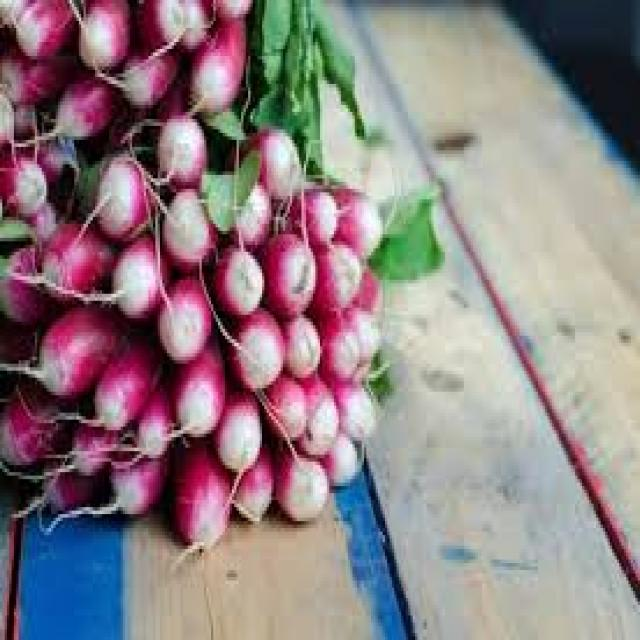organic waste: (295, 14, 357, 171), (32, 301, 126, 398), (246, 0, 313, 126), (86, 329, 169, 423), (167, 430, 232, 549), (0, 371, 77, 468), (37, 213, 114, 308), (374, 182, 441, 276), (153, 262, 213, 357), (28, 454, 114, 518), (223, 301, 285, 388), (88, 150, 149, 238), (98, 444, 170, 518), (155, 182, 216, 269), (109, 231, 167, 322), (211, 374, 262, 476), (46, 70, 116, 143), (197, 143, 255, 231), (248, 126, 320, 196), (172, 339, 222, 437), (125, 367, 174, 458), (262, 228, 313, 312), (274, 437, 324, 521), (0, 42, 74, 98), (151, 105, 204, 182), (334, 178, 383, 259), (257, 367, 306, 448), (209, 238, 262, 311), (107, 49, 181, 101), (74, 0, 132, 66), (65, 412, 123, 476), (0, 238, 44, 322), (132, 70, 183, 140), (12, 0, 74, 56), (220, 175, 269, 245), (0, 144, 44, 220), (316, 308, 360, 384), (299, 367, 336, 455), (313, 238, 359, 308), (245, 0, 285, 80), (230, 444, 271, 521), (0, 314, 37, 398), (334, 371, 380, 437), (281, 185, 336, 238), (28, 129, 81, 182), (134, 0, 185, 52), (320, 420, 357, 486), (280, 311, 316, 374), (341, 304, 378, 360), (200, 102, 243, 144), (23, 192, 60, 238), (7, 91, 39, 140), (176, 0, 208, 45), (346, 262, 376, 308), (74, 154, 98, 206), (364, 350, 390, 395), (208, 0, 252, 21), (0, 213, 32, 241), (0, 88, 14, 150), (0, 0, 30, 28)
